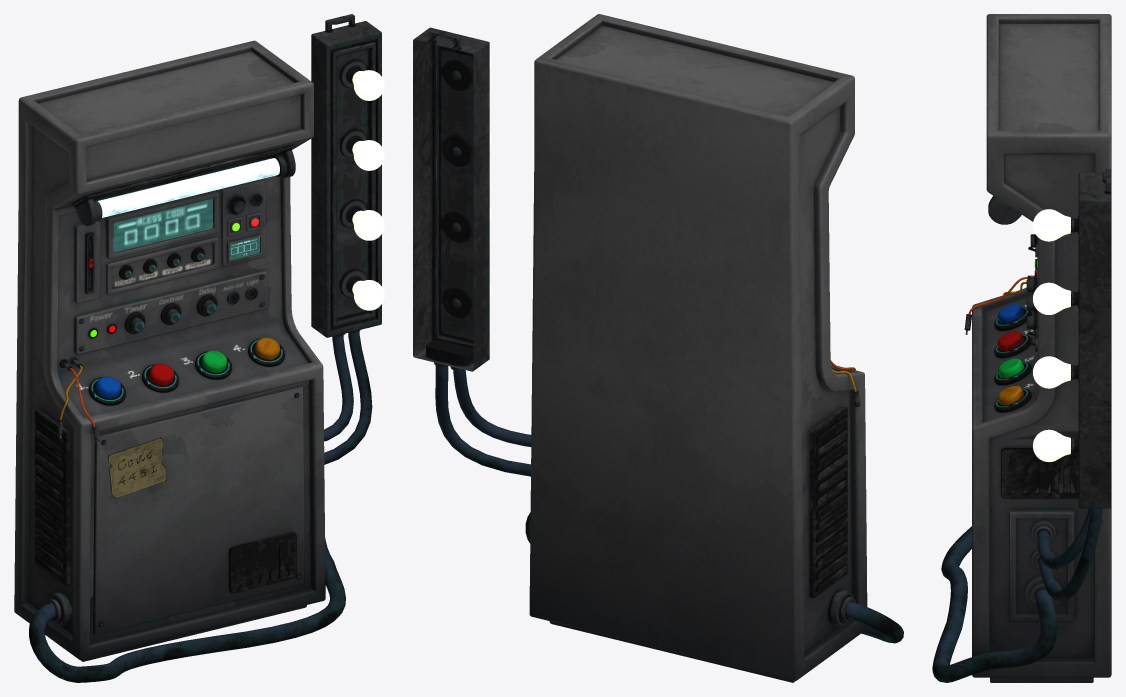
File: LightSeqPuzzle.fbx
3 views of the same model, side by side, from view 1: azimuth 30°, elevation 25°; view 2: azimuth 150°, elevation 25°; view 3: azimuth 270°, elevation 25° (orthographic). The views are drawn at different scales.
Visible parts, largest first — view 1: LightSeqPuzzle, SM_Blub1, SM_Blub3, SM_Blub2, SM_Blub4; view 2: LightSeqPuzzle; view 3: LightSeqPuzzle, SM_Blub1, SM_Blub3, SM_Blub4, SM_Blub2, SM_Button2, SM_Button1, SM_Button4, SM_Button3.
Part boxes in pixels (x1,y1,x2,y2): LightSeqPuzzle: (14,14,381,682); SM_Blub1: (340,59,384,100); SM_Blub3: (340,199,384,240); SM_Blub2: (340,129,384,170); SM_Blub4: (340,269,384,310); LightSeqPuzzle: (413,14,903,682); LightSeqPuzzle: (932,14,1111,682); SM_Blub1: (1032,209,1078,241); SM_Blub3: (1033,356,1078,388); SM_Blub4: (1033,429,1078,461); SM_Blub2: (1033,282,1078,314); SM_Button2: (997,331,1024,351); SM_Button1: (997,304,1024,323); SM_Button4: (997,386,1024,405); SM_Button3: (997,358,1024,378).
Bounding box in the file's own units: 105 × 137 × 39.73.
